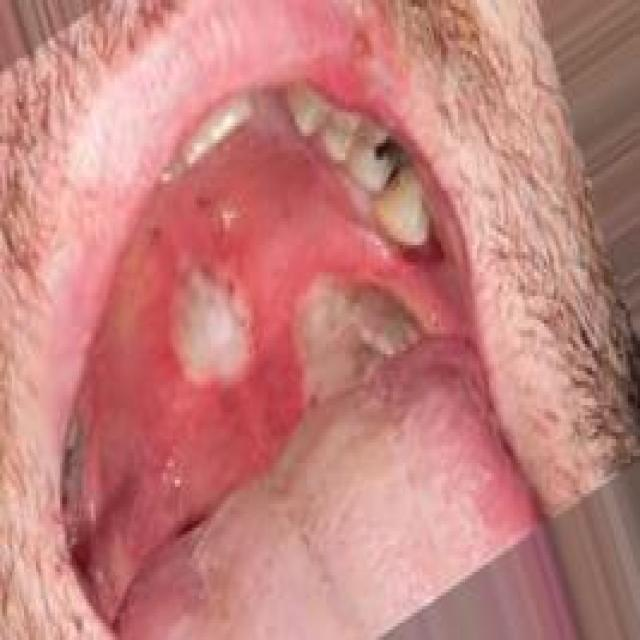caries: (364, 124, 408, 194)
